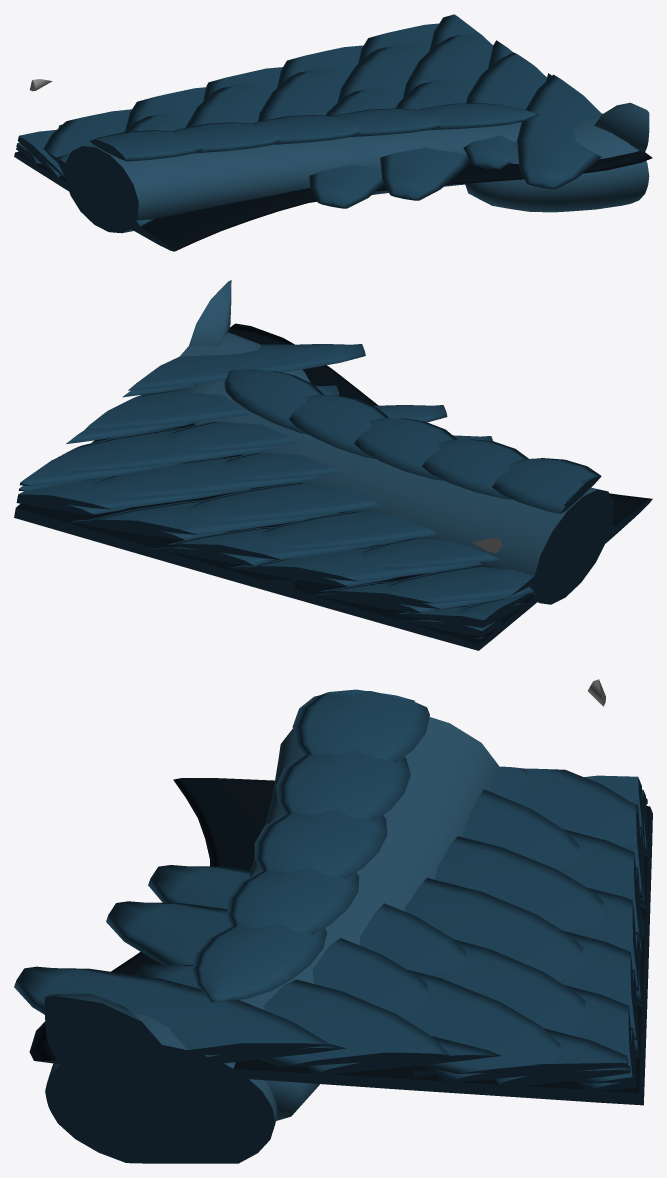
Rendered from gryphon_87.glb.
3 views of the same model, one above another, from view 1: azimuth 30°, elevation 25°; view 2: azimuth 150°, elevation 25°; view 3: azimuth 270°, elevation 25° (orthographic). The views are drawn at different scales.
Parts seen in each view (by area): view 1: gryphon_87; view 2: gryphon_87; view 3: gryphon_87.
Part boxes in pixels (x1,y1,x2,y2): gryphon_87: (14,14,652,251); gryphon_87: (14,280,652,650); gryphon_87: (14,679,652,1163).
Bounding box in the file's own units: 24 × 6.05 × 20.6.
